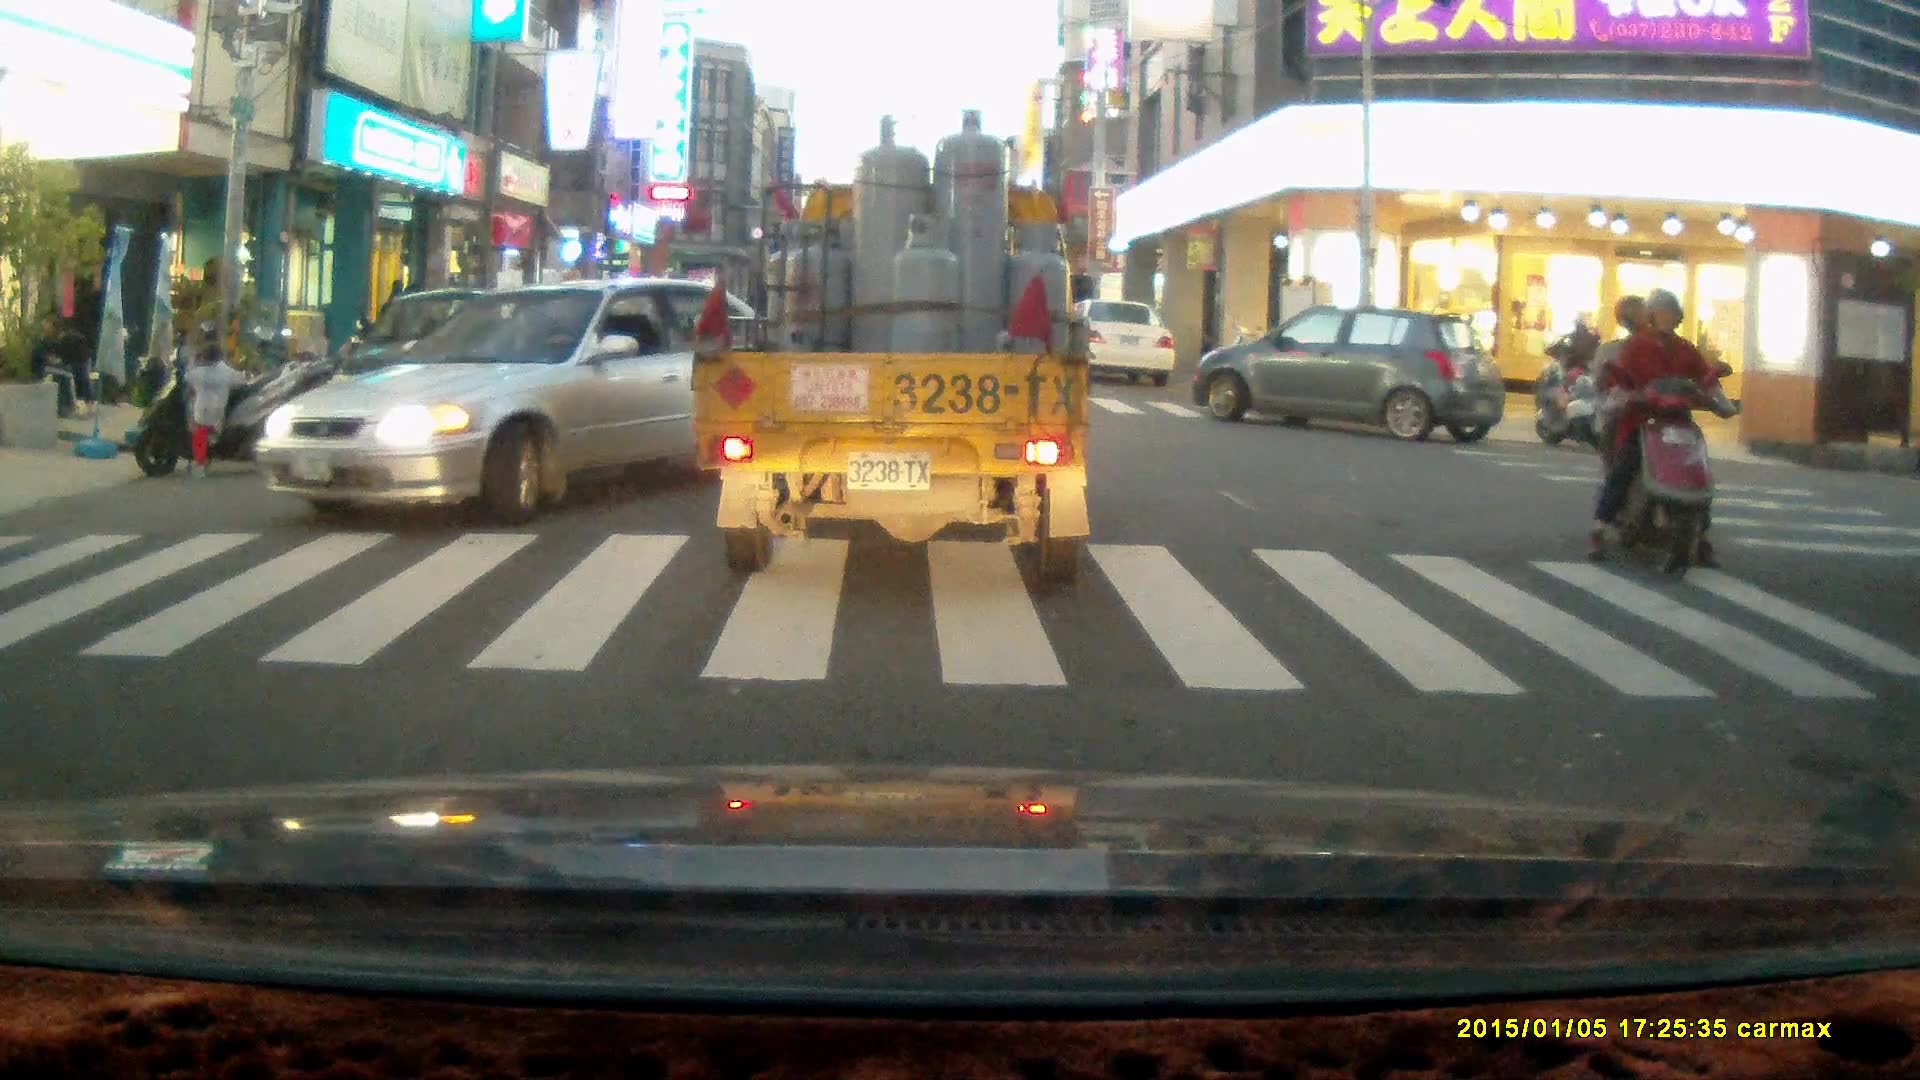pedestrian: (181, 341, 250, 480)
rider: (1581, 287, 1731, 579), (1538, 307, 1613, 429)
vehicle: (688, 108, 1092, 592), (258, 277, 811, 530), (1192, 306, 1503, 444), (1060, 299, 1184, 382)
